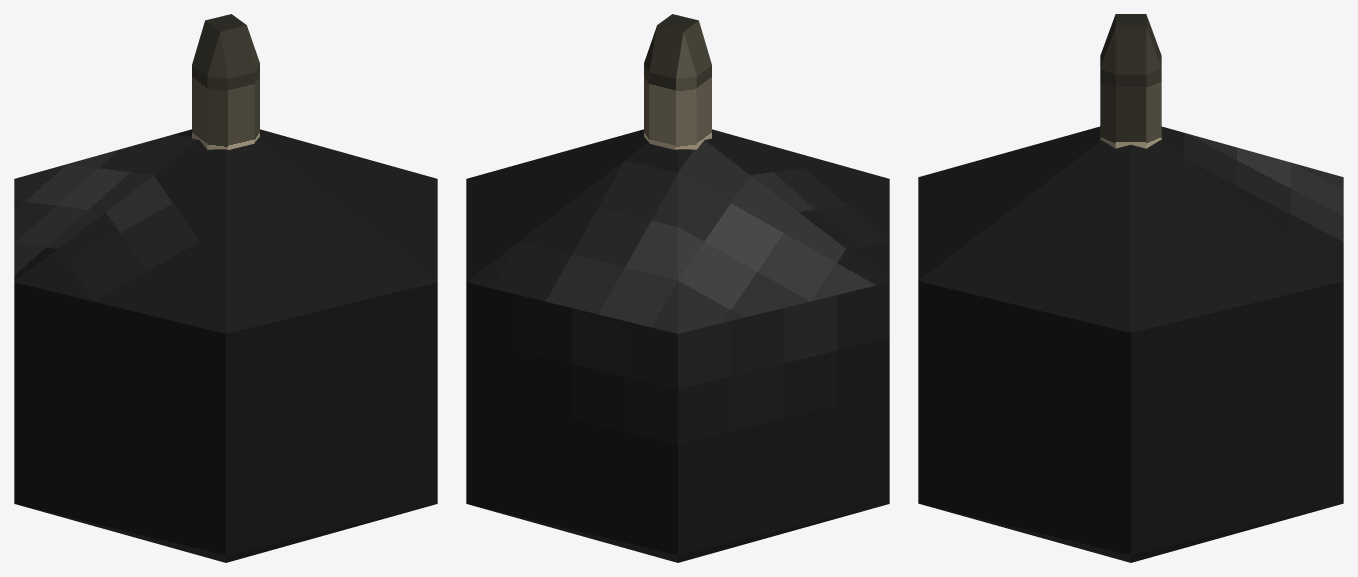
The model's file is mini.gltf.
The picture shows the model from 3 angles, left to right: view 1: azimuth 30°, elevation 25°; view 2: azimuth 150°, elevation 25°; view 3: azimuth 270°, elevation 25°; orthographic projection.
Parts seen in each view (by area): view 1: sphere, beveled_cuboid; view 2: sphere, beveled_cuboid; view 3: sphere, beveled_cuboid.
Part boxes in pixels (<box>): sphere: <box>14,129,437,562</box>; beveled_cuboid: <box>192,14,259,149</box>; sphere: <box>466,129,889,562</box>; beveled_cuboid: <box>644,14,711,149</box>; sphere: <box>918,126,1343,562</box>; beveled_cuboid: <box>1100,14,1161,148</box>.
Size of the model in its own units: 0.5 by 0.6094 by 0.433.
Materials: 1 (1 with a texture image).
